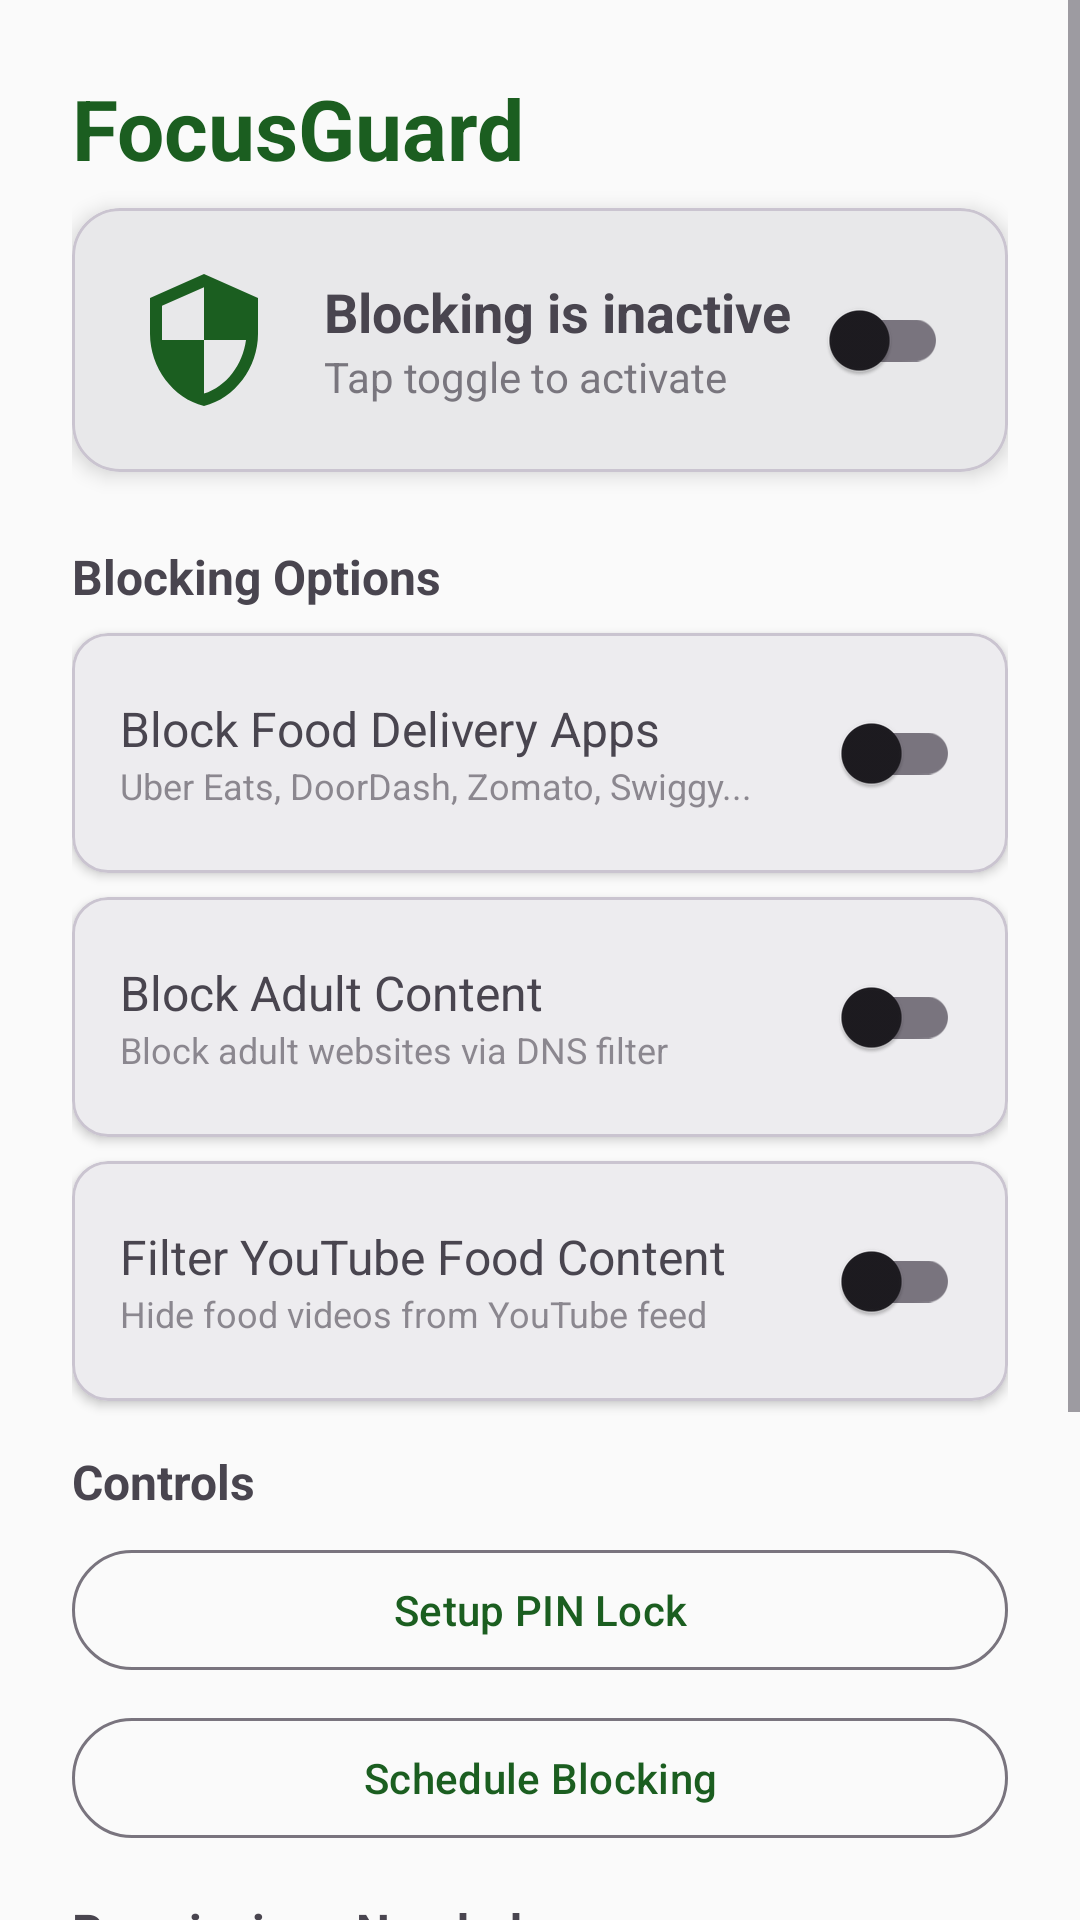

Icons on this 1080w x 1920h Android screen, each with the point to tap as point (x, y):
shield: point (204, 340)
